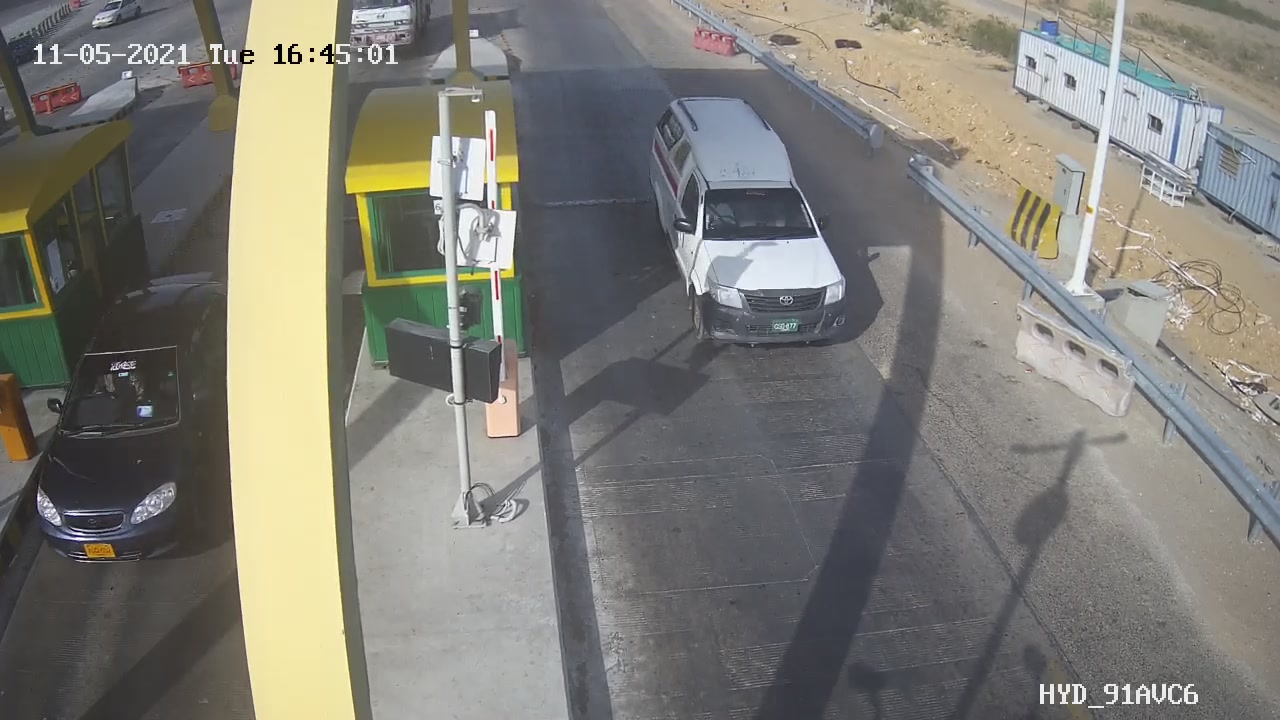F1: (624, 82, 879, 370)
